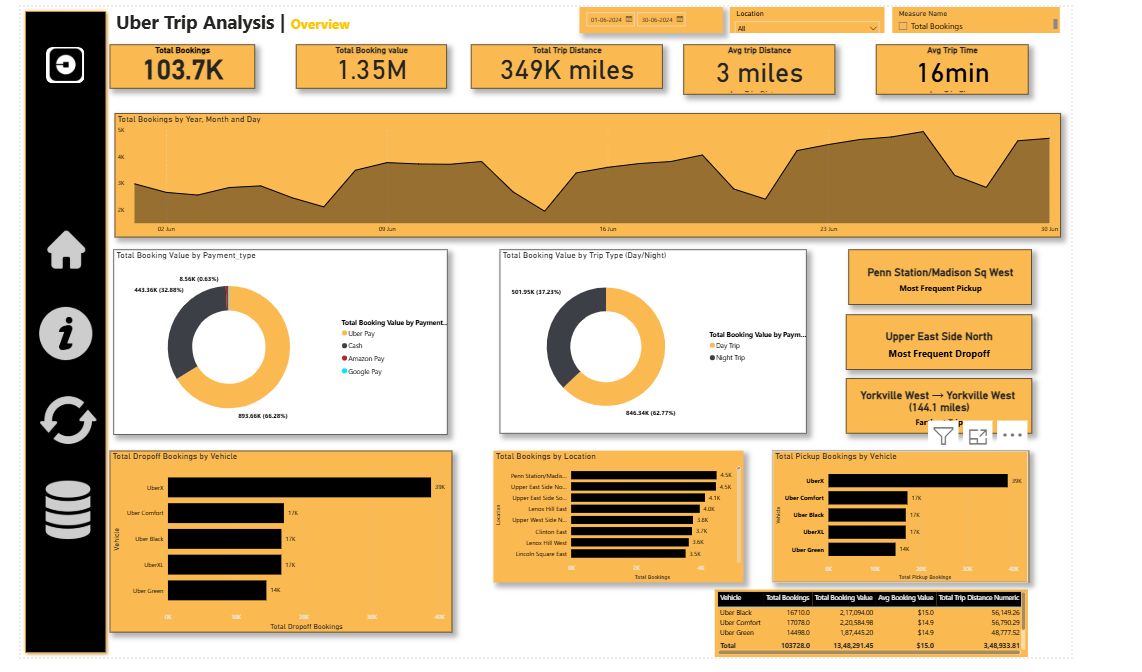

This screenshot's page, from the dashboard's own definition file:
{"tool":"powerbi","page":{"name":"Overview Dashboard","canvas":[2100,1300],"ordinal":0},"visuals":[{"type":"slicer","fields":{"Values":["Calendar Table.Date"]},"box":[1118.5,0,286.2,52.3],"z":0},{"type":"slicer","fields":{"Values":["Location Table.Location"]},"box":[1416.9,0,309.2,52.3],"z":1000},{"type":"shape","box":[50.7,78.5,76.6,72.5],"z":1000,"group":"g1"},{"type":"slicer","fields":{"Values":["Dynamic Measure Fields.Measure Name"]},"box":[1741.5,0,335.4,52.3],"z":2000},{"type":"image","box":[52,74.6,74.8,80.4],"z":2000,"group":"g1"},{"type":"card","title":"Total Bookings ","fields":{"Values":["Trip Details.Total Bookings"]},"box":[178.3,75,290,88.3],"z":3000},{"type":"card","title":"Total Booking value","fields":{"Values":["Dynamic Measure Fields.Total Booking Value"]},"box":[550,75,301.7,88.3],"z":4000},{"type":"card","title":"Total Trip Distance","fields":{"Values":["Trip Details.Total Trip Distance"]},"box":[900,75,383.3,88.3],"z":5000},{"type":"card","title":"Avg trip Distance","fields":{"Values":["Trip Details.Avg Trip Distance"]},"box":[1326.2,75.4,303.1,100],"z":6000},{"type":"card","title":"Avg Trip Time","fields":{"Values":["Trip Details.Avg Trip Time"]},"box":[1710,75,305,100],"z":7000},{"type":"card","fields":{"Values":["Trip Details.Total Pickup Bookings"]},"box":[1149,634,267,114],"z":8000},{"type":"card","fields":{"Values":["Trip Details.Farthest Trip"]},"box":[1650,743.3,371.7,110],"z":9000},{"type":"stackedAreaChart","fields":{"Y":["Trip Details.Total Bookings"],"Category":["Calendar Table.Date.Variation.Date Hierarchy.Year","Calendar Table.Date.Variation.Date Hierarchy.Month","Calendar Table.Date.Variation.Date Hierarchy.Day"]},"box":[188.3,213.3,1891.7,248.3],"z":10000},{"type":"donutChart","fields":{"Y":["Dynamic Measure Fields.Total Booking Value"],"Category":["Trip Details.Payment_type"]},"box":[185,485,668.3,370],"z":11000},{"type":"donutChart","fields":{"Y":["Dynamic Measure Fields.Total Booking Value"],"Category":["Trip Details.Trip Type (Day/Night)"]},"box":[956.7,485,613.3,368.3],"z":12000},{"type":"card","fields":{"Values":["Calendar Table.Most Frequent Pickup"]},"box":[1655,485,366.7,110],"z":13000},{"type":"card","fields":{"Values":["Calendar Table.Most Frequent Dropoff Point"]},"box":[1650,615,371.7,110],"z":14000},{"type":"tableEx","fields":{"Values":["Trip Details.Vehicle","Trip Details.Total Bookings","Dynamic Measure Fields.Total Booking Value","Trip Details.Avg Booking Value","Trip Details.Total Trip Distance Numeric"]},"box":[1388.3,1165,626.7,135],"z":15000},{"type":"clusteredBarChart","fields":{"Category":["Trip Details.Vehicle"],"Y":["Trip Details.Total Dropoff Bookings"]},"box":[178.3,888.3,685,363.3],"z":16000},{"type":"clusteredBarChart","fields":{"Category":["Location Table.Location"],"Y":["Trip Details.Total Bookings"]},"box":[945,888.3,500,263.3],"z":17000},{"type":"clusteredBarChart","fields":{"Category":["Trip Details.Vehicle"],"Y":["Trip Details.Total Pickup Bookings"]},"box":[1501.7,888.3,513.3,263.3],"z":18000},{"type":"shape","box":[0,0,179.1,1300],"z":19000},{"type":"image","box":[14,441.9,151.2,86],"z":20000},{"type":"image","box":[26.9,595.5,123.9,116.4],"z":21000},{"type":"image","box":[31.3,765.7,123.9,122.4],"z":22000},{"type":"image","box":[0,943.3,188.1,126.9],"z":23000},{"type":"group","id":"g1","title":"Group 1","box":[50.7,74.6,76.1,82.1],"z":24000},{"type":"textbox","box":[185.1,0,817.9,62.7],"z":25000}]}

Visuals, with their boxes on the page's 2100x1300 design canvas (x1, y1, x2, y2). These are canvas units, not pixel positions in the 1142x672 screenshot, which may show the page scaled, cropped or inside an application window:
slicer - Calendar Table.Date: [1118,0,1405,52]
slicer - Location Table.Location: [1417,0,1726,52]
shape: [51,78,127,151]
slicer - Dynamic Measure Fields.Measure Name: [1742,0,2077,52]
image: [52,75,127,155]
"Total Bookings " card: [178,75,468,163]
"Total Booking value" card: [550,75,852,163]
"Total Trip Distance" card: [900,75,1283,163]
"Avg trip Distance" card: [1326,75,1629,175]
"Avg Trip Time" card: [1710,75,2015,175]
card - Trip Details.Total Pickup Bookings: [1149,634,1416,748]
card - Trip Details.Farthest Trip: [1650,743,2022,853]
stackedAreaChart - Trip Details.Total Bookings x Calendar Table.Date.Variation.Date Hierarchy.Year: [188,213,2080,462]
donutChart - Dynamic Measure Fields.Total Booking Value x Trip Details.Payment_type: [185,485,853,855]
donutChart - Dynamic Measure Fields.Total Booking Value x Trip Details.Trip Type (Day/Night): [957,485,1570,853]
card - Calendar Table.Most Frequent Pickup: [1655,485,2022,595]
card - Calendar Table.Most Frequent Dropoff Point: [1650,615,2022,725]
tableEx - Trip Details.Vehicle x Trip Details.Total Bookings: [1388,1165,2015,1300]
clusteredBarChart - Trip Details.Vehicle x Trip Details.Total Dropoff Bookings: [178,888,863,1252]
clusteredBarChart - Location Table.Location x Trip Details.Total Bookings: [945,888,1445,1152]
clusteredBarChart - Trip Details.Vehicle x Trip Details.Total Pickup Bookings: [1502,888,2015,1152]
shape: [0,0,179,1300]
image: [14,442,165,528]
image: [27,596,151,712]
image: [31,766,155,888]
image: [0,943,188,1070]
"Group 1" group: [51,75,127,157]
textbox: [185,0,1003,63]
